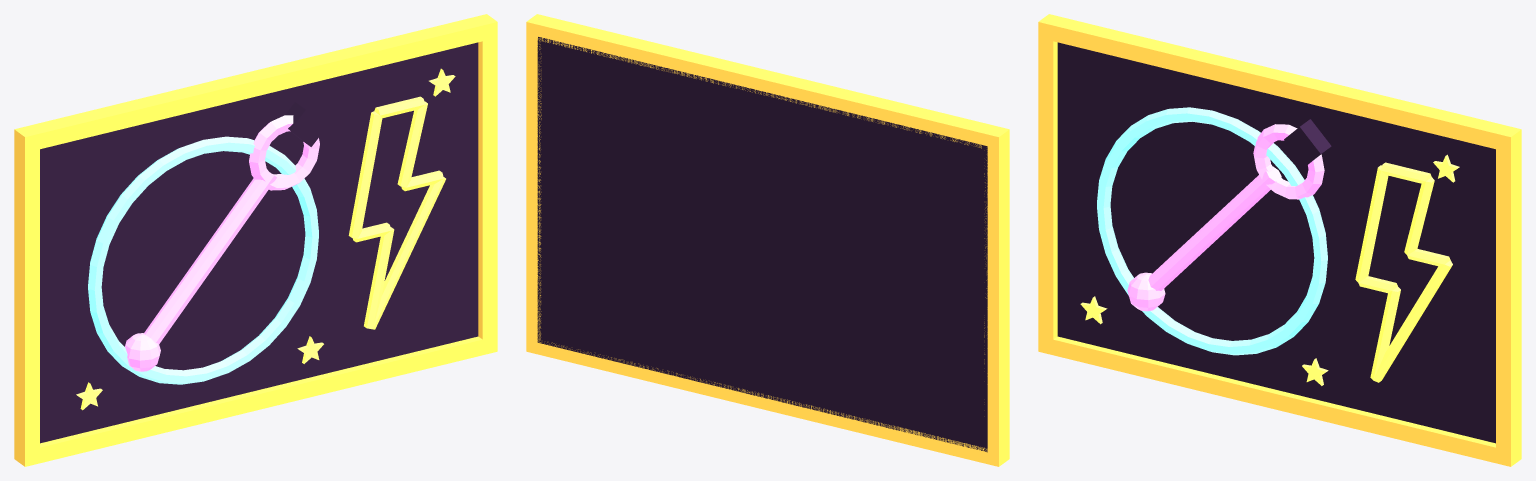
The model's file is login_m01_w2.glb.
The picture shows the model from 3 angles, left to right: view 1: azimuth 30°, elevation 25°; view 2: azimuth 150°, elevation 25°; view 3: azimuth 330°, elevation 25°; orthographic projection.
Parts seen in each view (by area): view 1: login_m01_w2; view 2: login_m01_w2; view 3: login_m01_w2.
Boxes of the visible parts, <box> form: login_m01_w2: <box>14,14,497,466</box>; login_m01_w2: <box>526,14,1009,466</box>; login_m01_w2: <box>1038,14,1521,466</box>.
Bounding box in the file's own units: 1.26 × 0.84 × 0.115.
